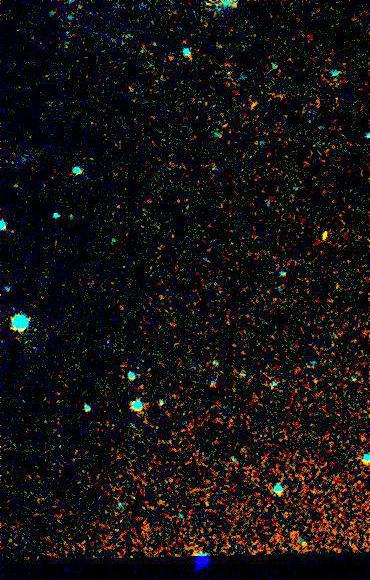star: (308, 221, 338, 251)
